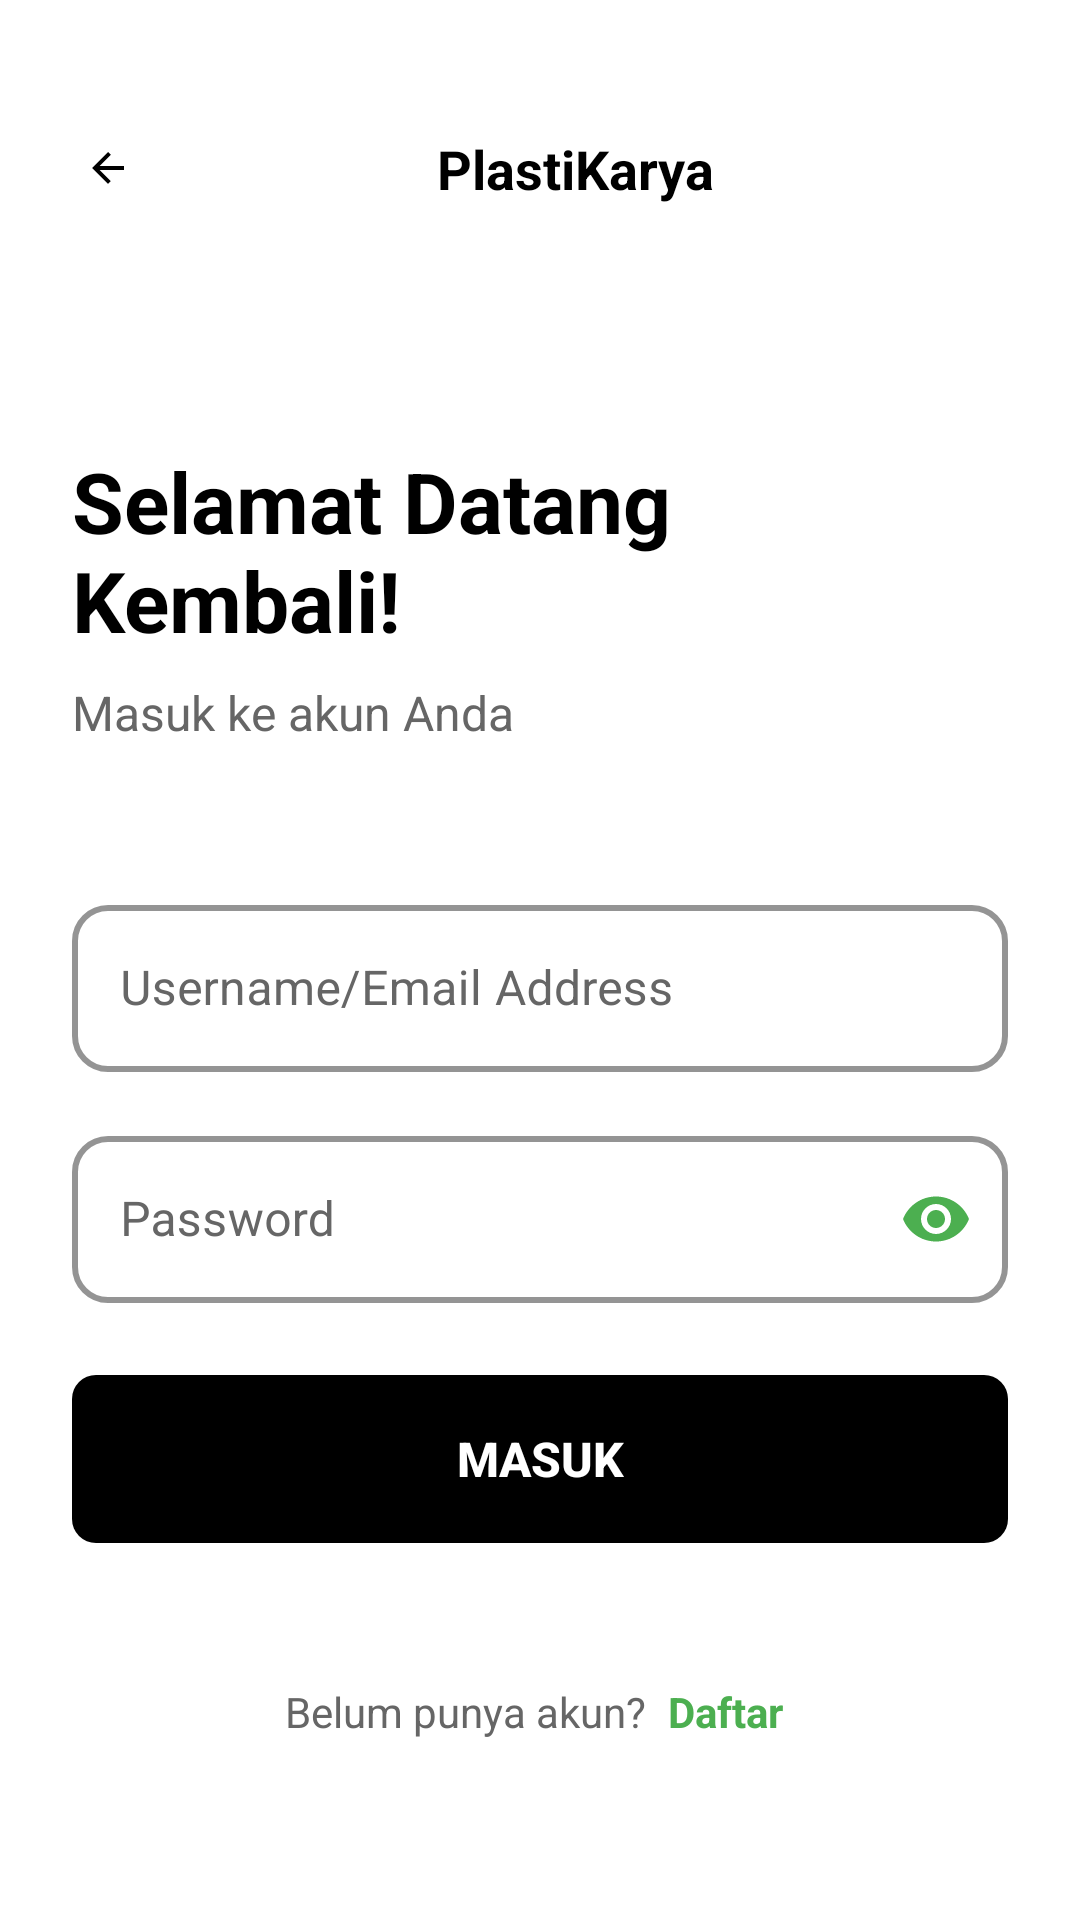

Locate icon controls on the screen. Image size 1080px×1920px, boxes as {"left": x1, "top": y1, "right": x2, "bottom": y2}.
Kembali: {"left": 92, "top": 152, "right": 124, "bottom": 184}
